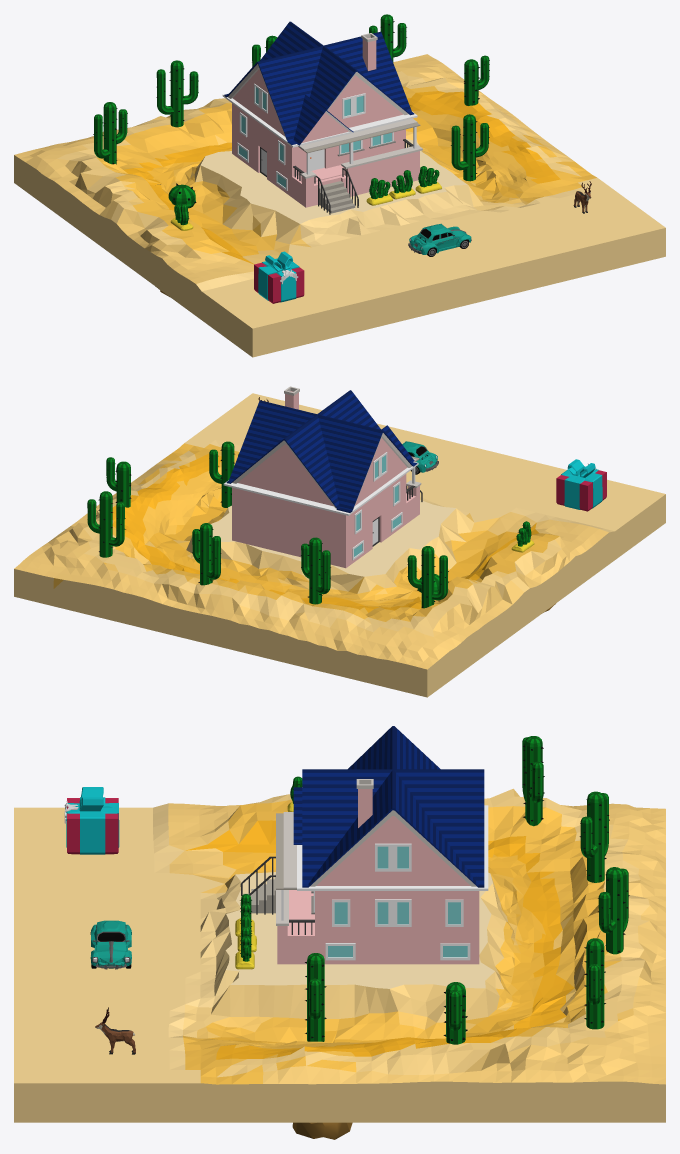
3 renders of one model, top to bottom at view 1: azimuth 30°, elevation 25°; view 2: azimuth 150°, elevation 25°; view 3: azimuth 270°, elevation 25°, orthographic. The views are drawn at different scales.
Visible parts, largest first — view 1: Cube.001, Cube.313, OBJRANDOM_GIANT_PRESENT, Cylinder.044, Cylinder.037, Cylinder.045, VEHICLES_VOLKSWAGEN, Cylinder.038, Cylinder.042, Cylinder.041, Cylinder.039, Sphere.023; view 2: Cube.001, Cube.313, OBJRANDOM_GIANT_PRESENT, Cylinder.042, Cylinder.045, Cylinder.044, Cylinder.043, Cylinder.037, Cylinder.038, VEHICLES_VOLKSWAGEN; view 3: Cube.001, Cube.313, OBJRANDOM_GIANT_PRESENT, Cylinder.043, Cylinder.044, VEHICLES_VOLKSWAGEN, Cylinder.045, Cylinder.042, Cylinder.037, Cylinder.038, UNDERGROUND_T_REX_BONES, Cylinder.041.
Boxes of the visible parts, x1,y1,x2,y2 form: Cube.001: (14,54,665,357); Cube.313: (222,21,422,214); OBJRANDOM_GIANT_PRESENT: (254,251,304,303); Cylinder.044: (156,60,198,127); Cylinder.037: (451,114,489,181); Cylinder.045: (93,102,127,164); VEHICLES_VOLKSWAGEN: (408,223,471,256); Cylinder.038: (464,55,489,105); Cylinder.042: (369,14,406,62); Cylinder.041: (415,166,441,193); Cylinder.039: (366,178,392,205); Sphere.023: (168,183,196,208); Cube.001: (14,393,665,697); Cube.313: (223,386,422,568); OBJRANDOM_GIANT_PRESENT: (556,459,606,511); Cylinder.042: (87,491,125,557); Cylinder.045: (407,546,448,608); Cylinder.044: (301,537,330,604); Cylinder.043: (192,523,221,585); Cylinder.037: (209,441,238,507); Cylinder.038: (106,457,131,507); VEHICLES_VOLKSWAGEN: (402,441,438,474); Cube.001: (14,788,665,1122); Cube.313: (240,726,488,964); OBJRANDOM_GIANT_PRESENT: (64,787,119,854); Cylinder.043: (597,867,629,954); Cylinder.044: (579,791,609,882); VEHICLES_VOLKSWAGEN: (90,920,131,969); Cylinder.045: (522,736,544,826); Cylinder.042: (584,938,605,1029); Cylinder.037: (305,953,326,1041); Cylinder.038: (443,982,467,1044); UNDERGROUND_T_REX_BONES: (292,1122,352,1139); Cylinder.041: (235,926,254,969).
Bounding box in the file's own units: 4002 × 1740 × 4001.
Materials: 33 (2 with a texture image).
